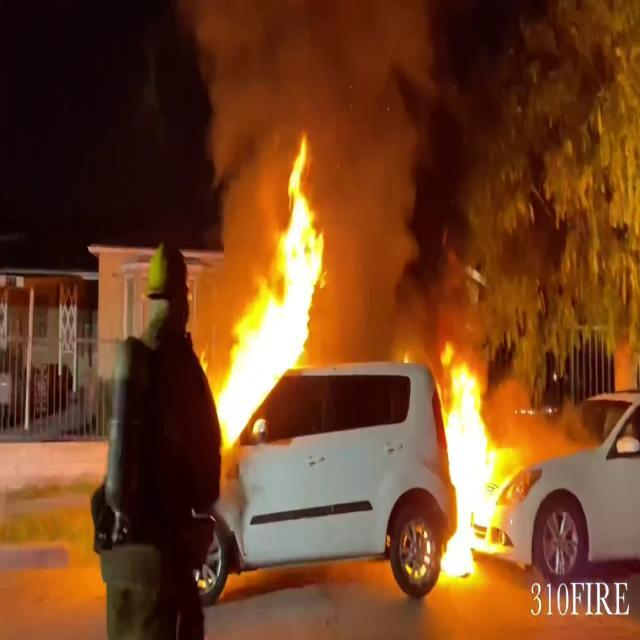Fire: (211, 130, 335, 445), (430, 344, 510, 584)
Smoke: (179, 0, 494, 300)
